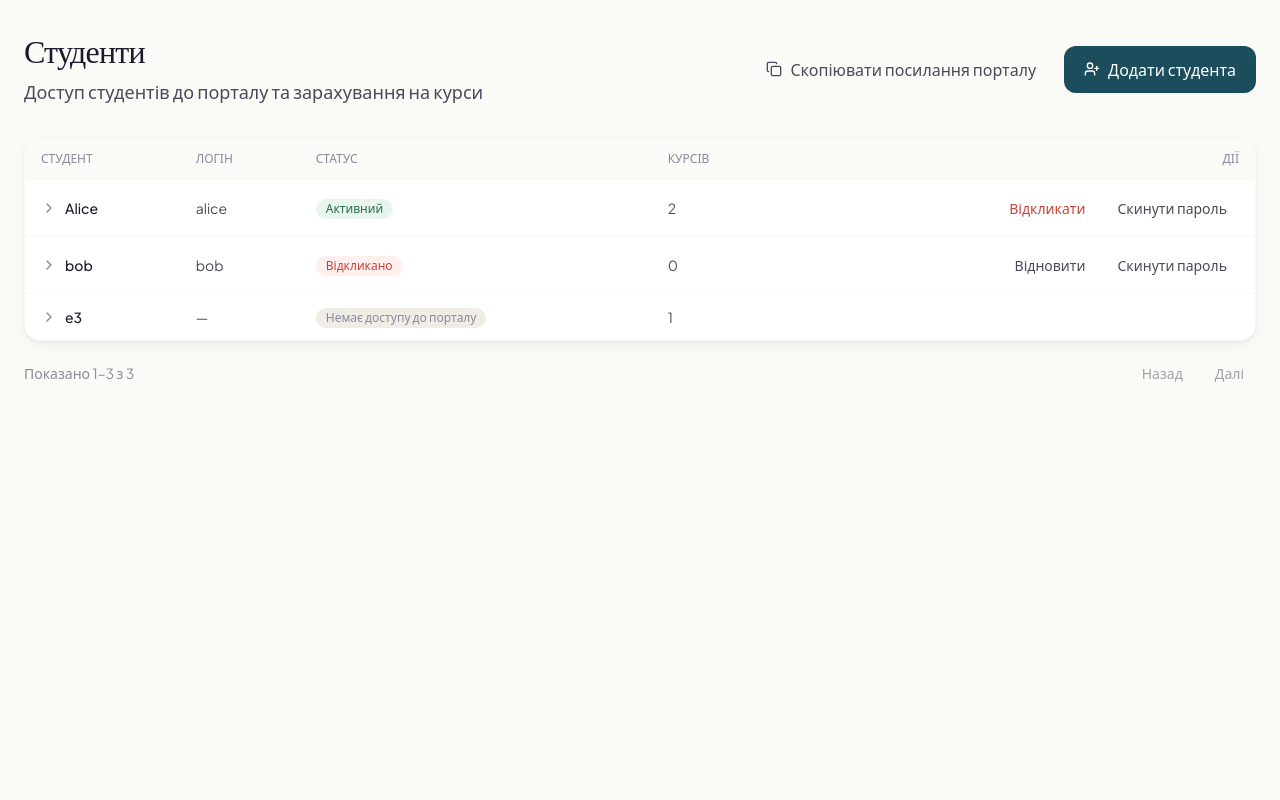
Test: StudentsPage › opens the provision modal with author-language mode labels
Expected: the text "Alice" is shown, [65,198,98,218]
Click the button "Додати студента". click: point(1160, 69)
box: [1064,46,1256,93]
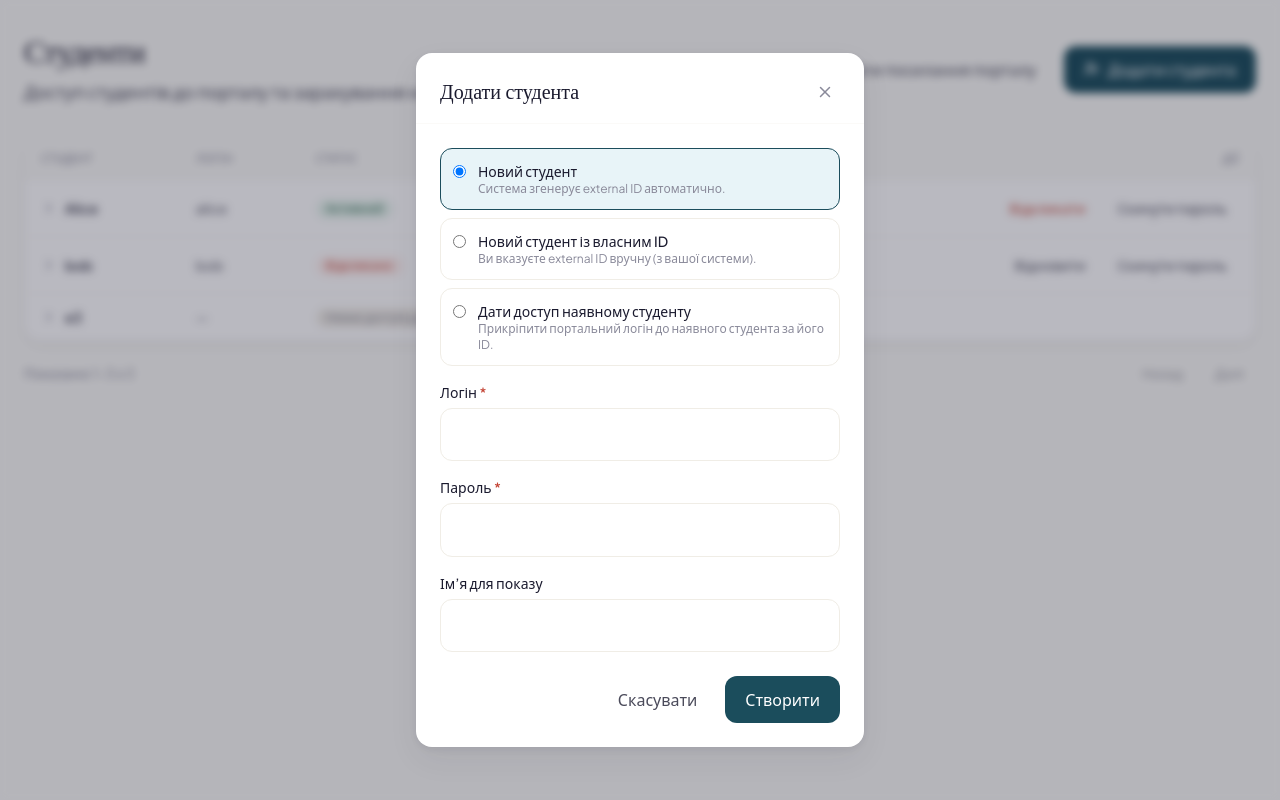
Expected: the text "Новий студент" is shown, [478,162,577,180]
Expected: the text "Дати доступ наявному студенту" is shown, [478,302,691,320]
